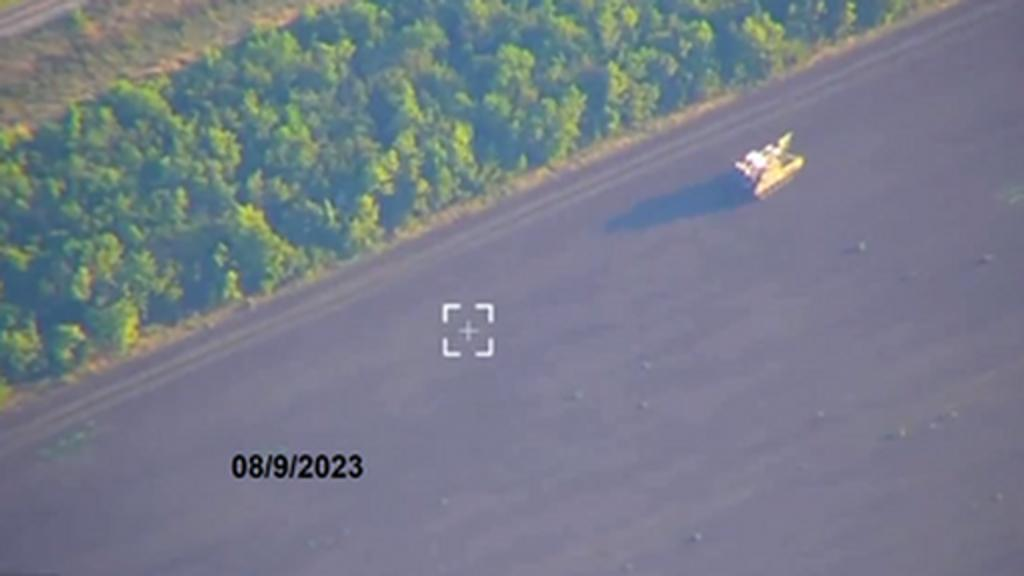ART: (724, 126, 808, 206)
